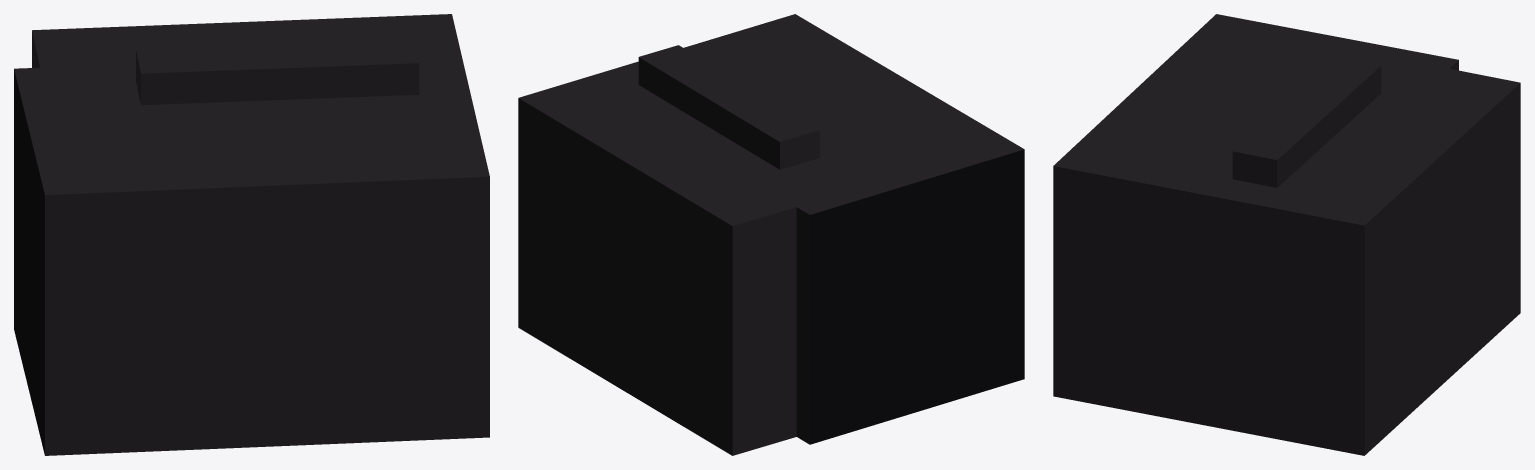
Rendered from building-in-chattanooga-tn-usa-7140725a.glb.
3 renders of one model, left to right at view 1: azimuth 30°, elevation 25°; view 2: azimuth 150°, elevation 25°; view 3: azimuth 270°, elevation 25°, orthographic. The views are drawn at different scales.
Visible parts, largest first — view 1: LOD0; view 2: LOD0; view 3: LOD0.
Boxes of the visible parts, left/top/right/bottom form: LOD0: left=14, top=14, right=489, bottom=455; LOD0: left=518, top=14, right=1024, bottom=455; LOD0: left=1053, top=14, right=1520, bottom=455.
Size of what is drawn, in the model's own units: 57.43 by 32.69 by 53.61.
Materials: 1 (1 with a texture image).
